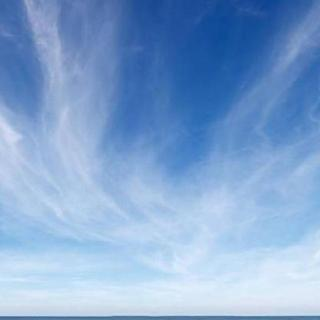Cirrus: (0, 0, 320, 316)
